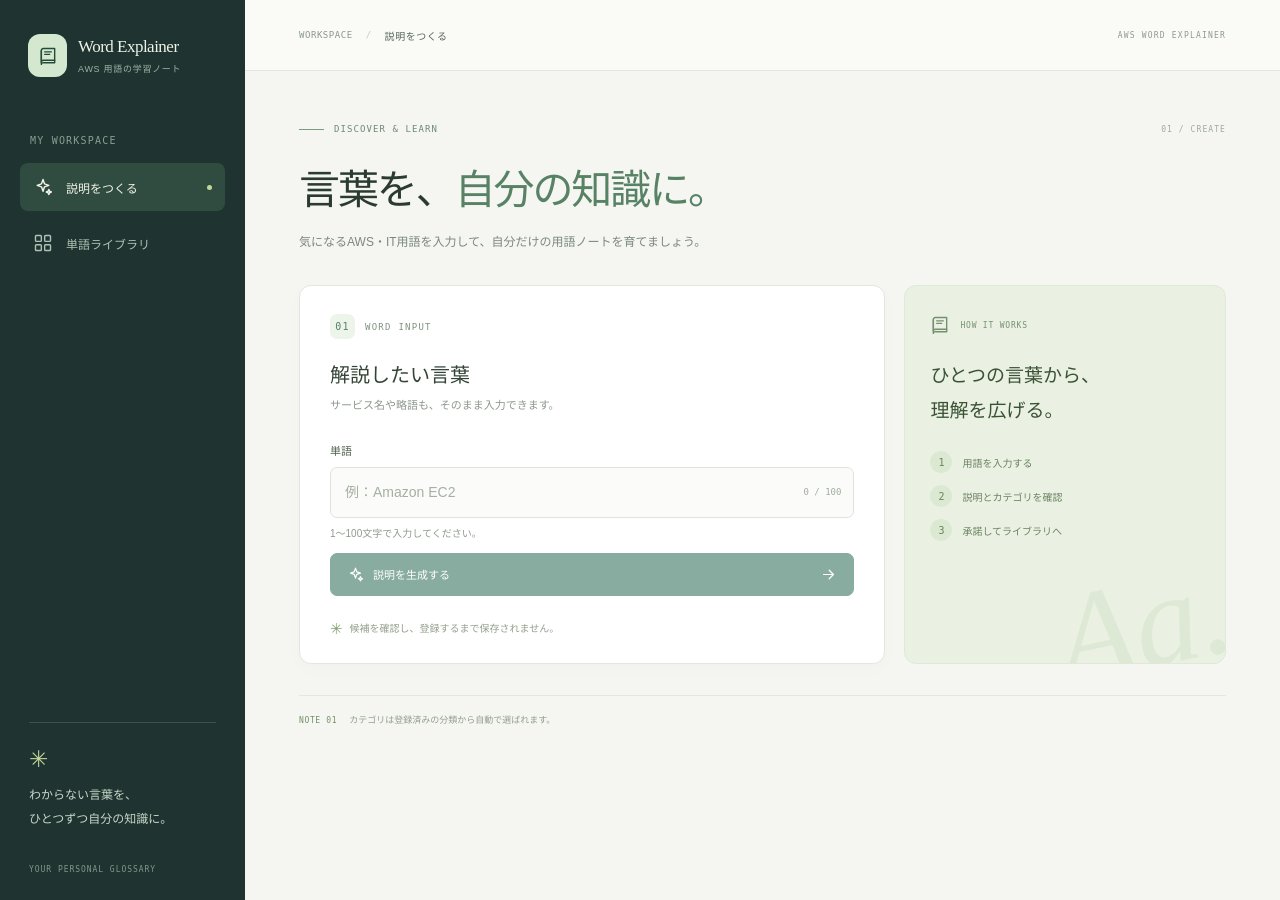
Test: 説明候補の承諾と保存 › 生成失敗時は入力を保持してエラーを表示する
Type "EC2" into the field labelled "単語" at [592, 492], box [330,467,854,518]
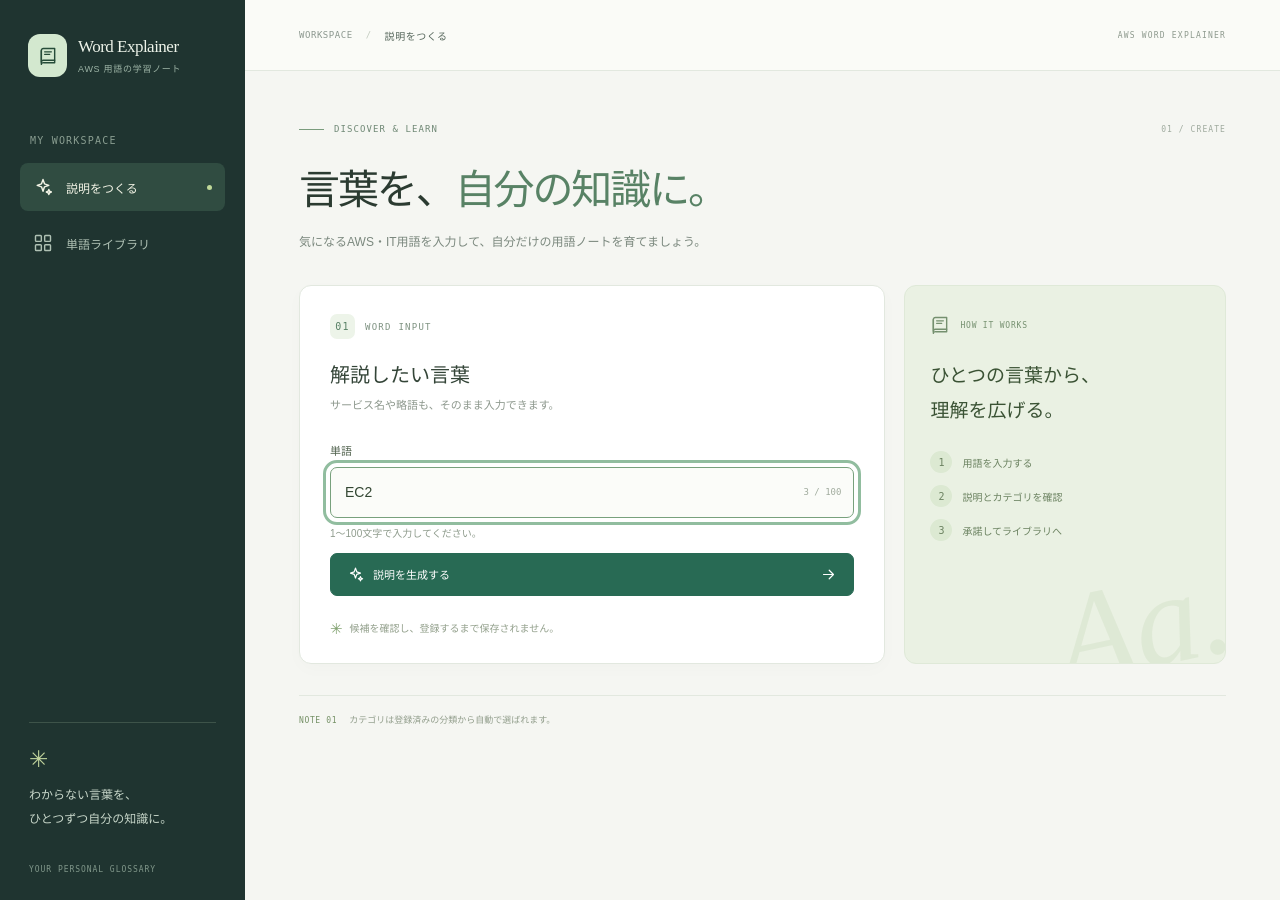
Click the button "説明を生成する" at [412, 575], box [330,553,854,596]
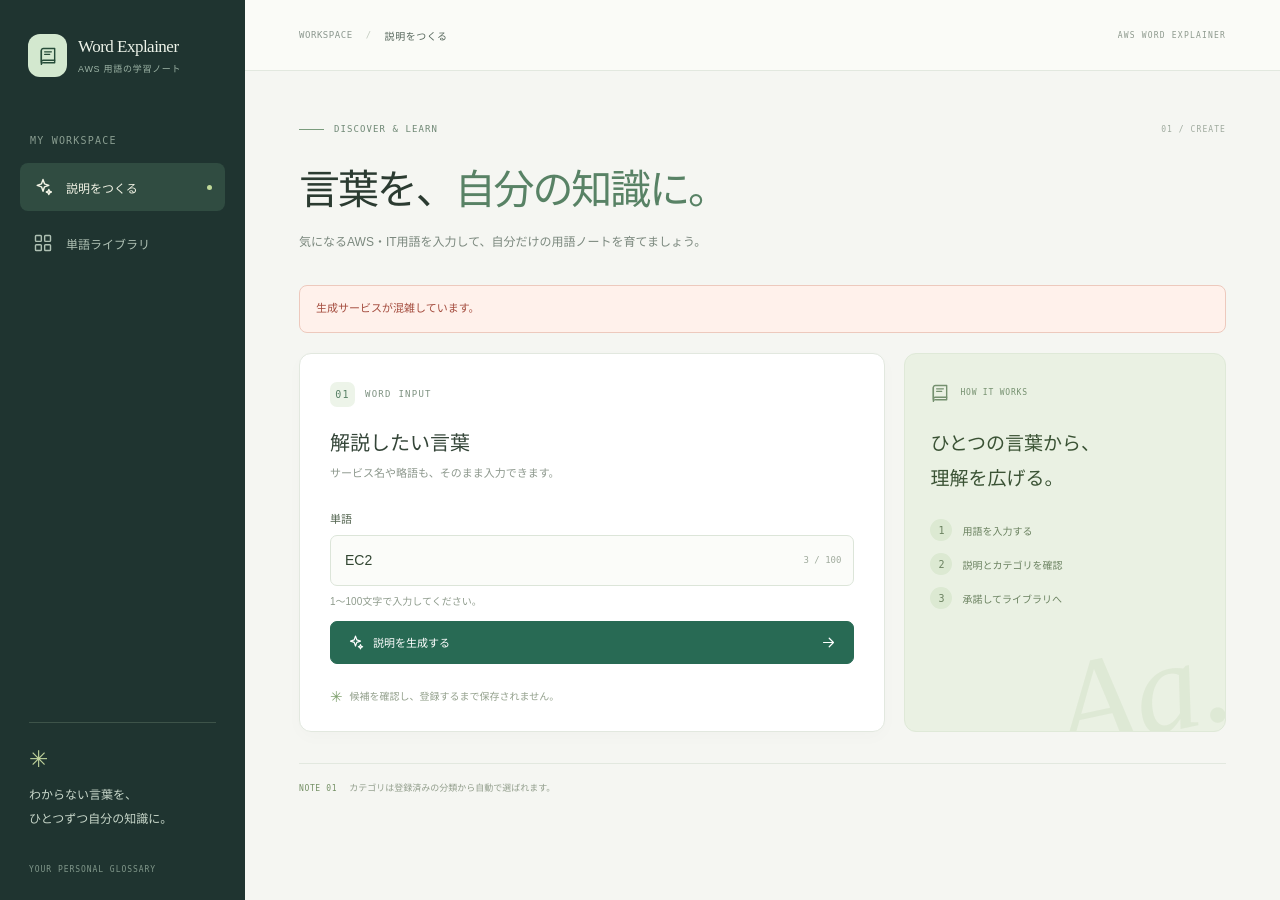
expect the button "説明を生成する" is enabled: met, box [330,621,854,664]
expect the message reads "生成サービスが混雑しています。": met, box [316,302,480,314]
